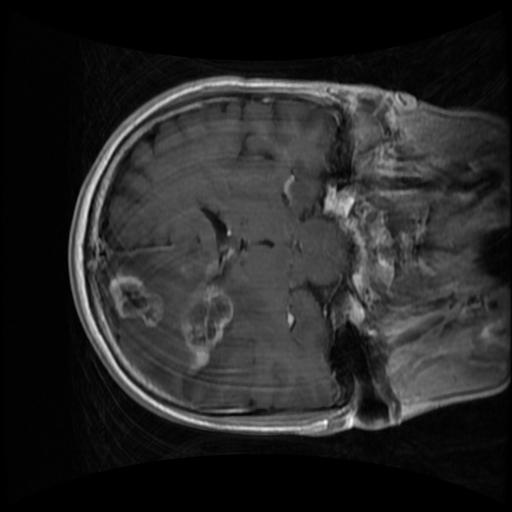glioma: (181, 280, 233, 374)
